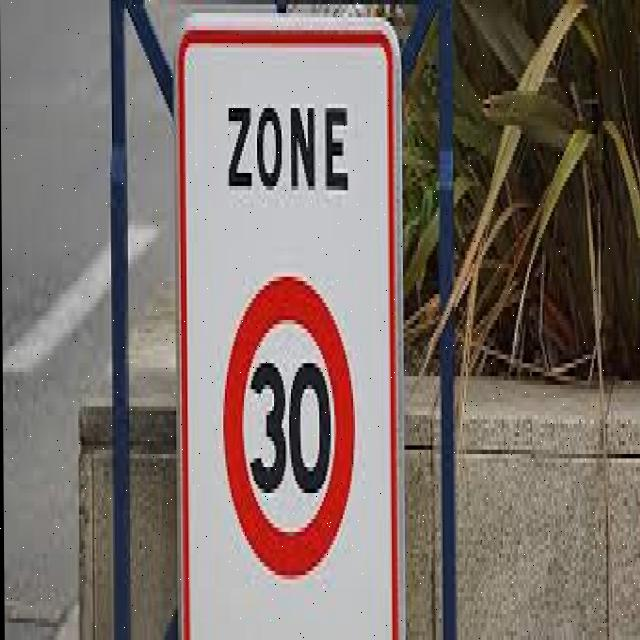Speed limit 30: (219, 269, 358, 576)
